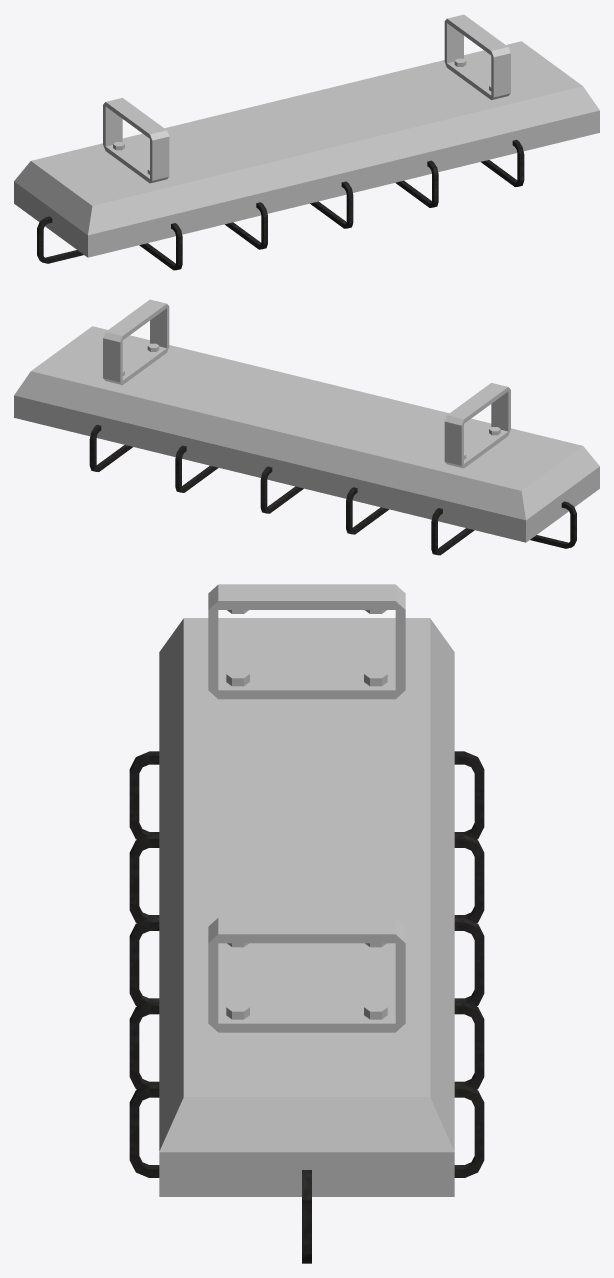
The model's file is ceiling_lamp_4_1_a_on.fbx.
The picture shows the model from 3 angles, top to bottom: view 1: azimuth 30°, elevation 25°; view 2: azimuth 150°, elevation 25°; view 3: azimuth 270°, elevation 25°; orthographic projection. The views are drawn at different scales.
Parts seen in each view (by area): view 1: ceiling_lamp_4_1_a_on, ceiling_lamp_4_1_a_on_protector; view 2: ceiling_lamp_4_1_a_on, ceiling_lamp_4_1_a_on_protector; view 3: ceiling_lamp_4_1_a_on, ceiling_lamp_4_1_a_on_protector.
Part boxes in pixels (x1,y1,x2,y2): ceiling_lamp_4_1_a_on: (14,14,599,257); ceiling_lamp_4_1_a_on_protector: (37,139,524,270); ceiling_lamp_4_1_a_on: (14,299,599,542); ceiling_lamp_4_1_a_on_protector: (89,424,576,555); ceiling_lamp_4_1_a_on: (159,584,454,1196); ceiling_lamp_4_1_a_on_protector: (129,751,484,1263).
Size of the model in its own units: 1.26 by 0.36 by 0.28.
